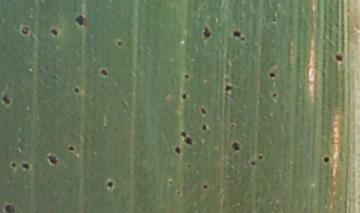tarspot: (46, 151, 58, 165), (202, 23, 212, 39), (18, 23, 30, 36), (73, 14, 85, 27), (332, 51, 344, 63), (230, 139, 241, 152), (20, 159, 31, 170), (198, 103, 208, 115), (1, 94, 11, 105), (183, 135, 194, 145), (99, 66, 109, 76), (5, 202, 14, 213), (65, 143, 76, 152), (72, 83, 81, 94), (266, 69, 277, 78), (50, 27, 59, 37), (232, 29, 242, 38), (179, 92, 189, 101), (106, 179, 114, 190), (200, 120, 208, 131), (8, 159, 17, 168), (173, 145, 182, 154), (255, 152, 265, 160), (322, 154, 330, 163), (224, 84, 232, 92), (184, 161, 192, 169), (183, 71, 190, 80), (249, 158, 256, 167), (179, 130, 187, 137), (166, 178, 173, 186), (175, 188, 182, 196), (201, 182, 209, 189), (271, 91, 278, 99), (116, 38, 122, 47), (228, 123, 236, 128)
